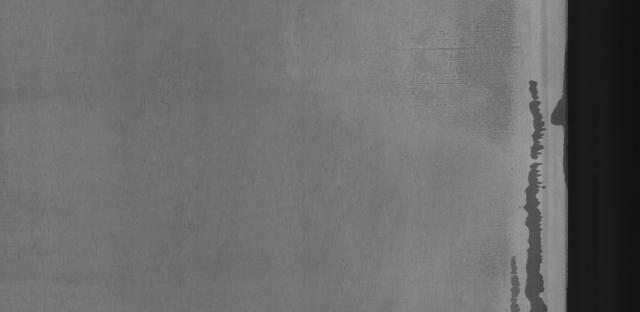oil_spot: (497, 76, 549, 312)
